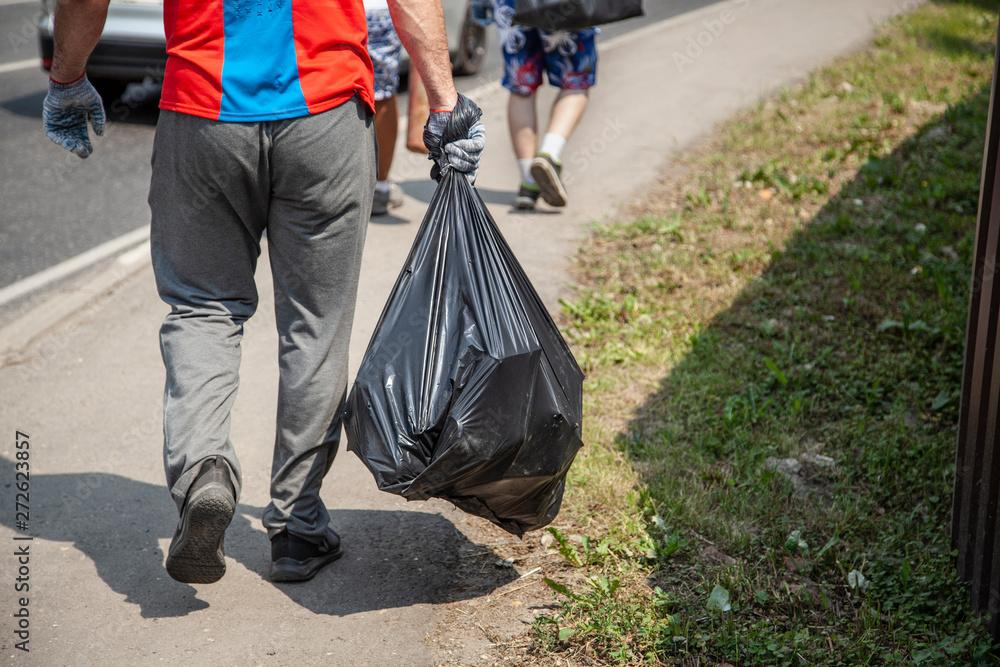road: (0, 111, 157, 667), (0, 68, 158, 286), (0, 2, 41, 63)
trash: (344, 164, 584, 534)
